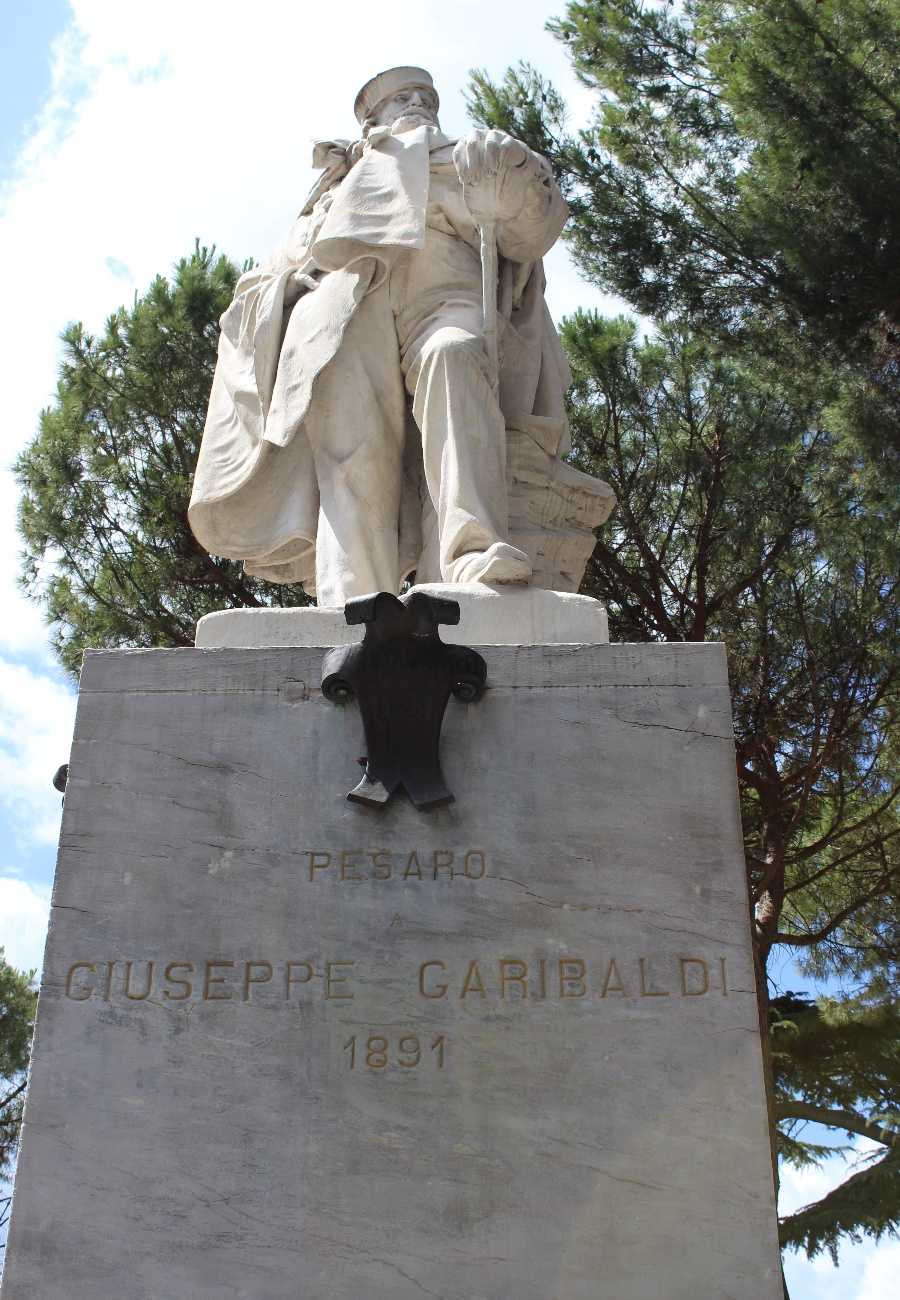Giuseppe Garibaldi: (182, 68, 570, 596)
